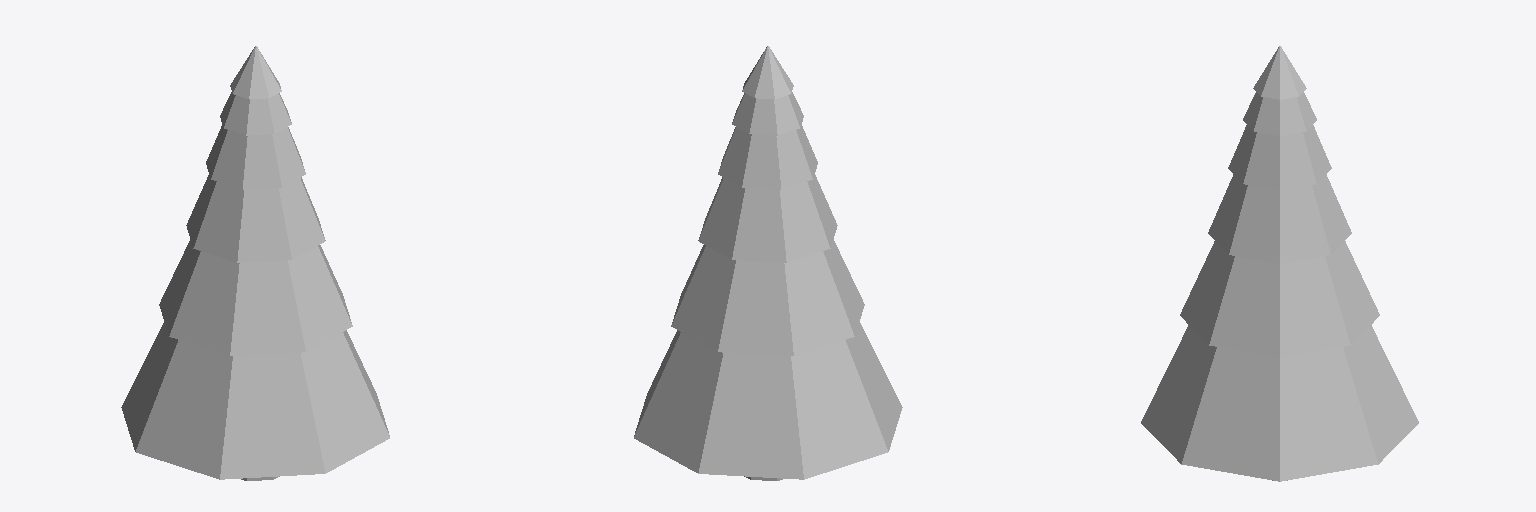
The model's file is PineTree.obj.
3 views of the same model, side by side, from view 1: azimuth 30°, elevation 25°; view 2: azimuth 150°, elevation 25°; view 3: azimuth 270°, elevation 25° (orthographic).
Visible parts, largest first — view 1: Cylinder; view 2: Cylinder; view 3: Cylinder.
Part boxes in pixels (bbox=[...]): Cylinder: bbox=[121, 46, 389, 480]; Cylinder: bbox=[634, 46, 902, 480]; Cylinder: bbox=[1141, 46, 1418, 481].
Bounding box in the file's own units: 8 × 13.37 × 8.